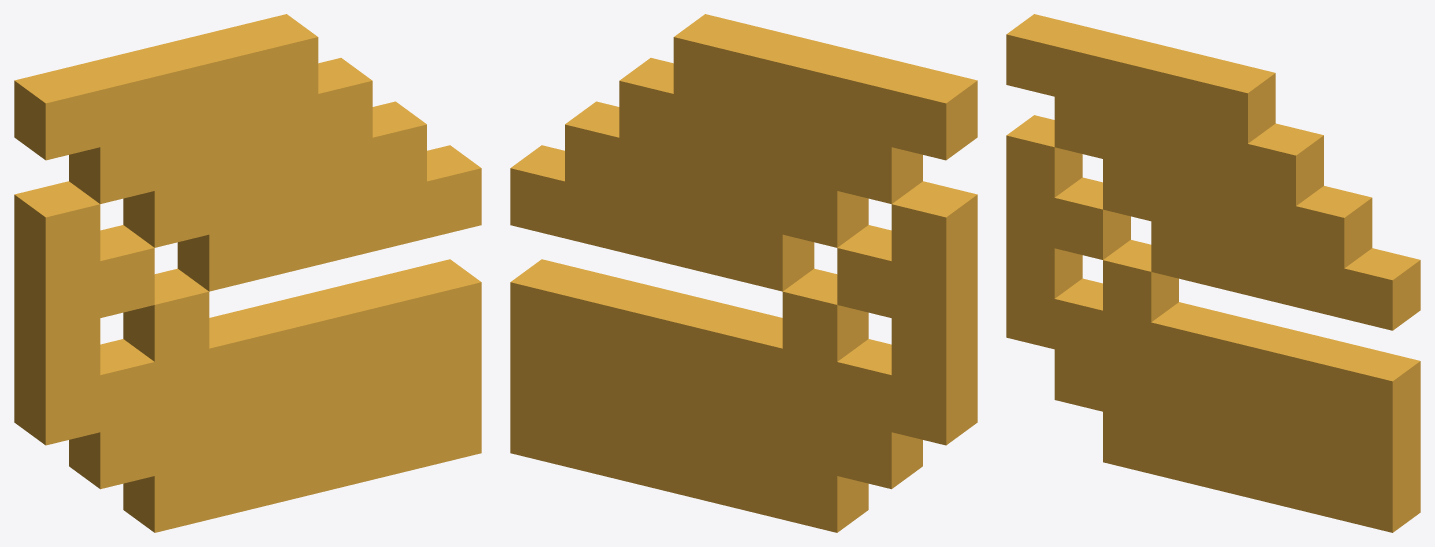
Rendered from Chest-Orange.vox.obj.
3 renders of one model, left to right at view 1: azimuth 30°, elevation 25°; view 2: azimuth 150°, elevation 25°; view 3: azimuth 330°, elevation 25°, orthographic. The views are drawn at different scales.
Bounding box in the file's own units: 0.8 × 0.8 × 0.1.
Materials: 1 (1 with a texture image).
